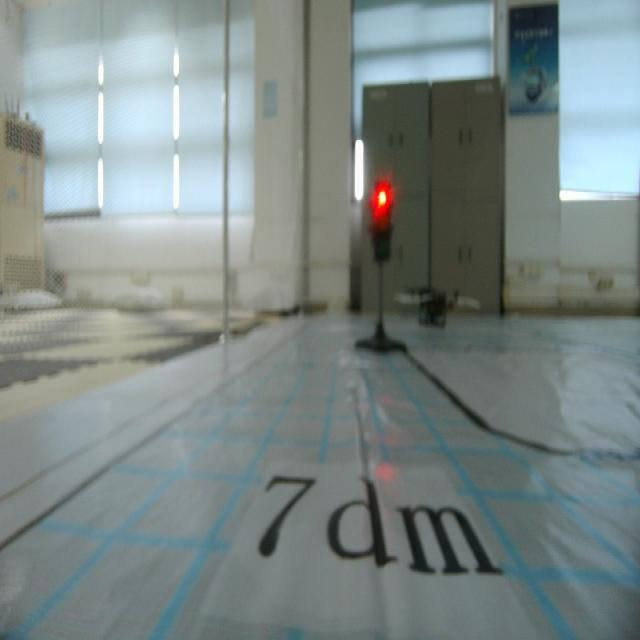red: (367, 179, 397, 266)
